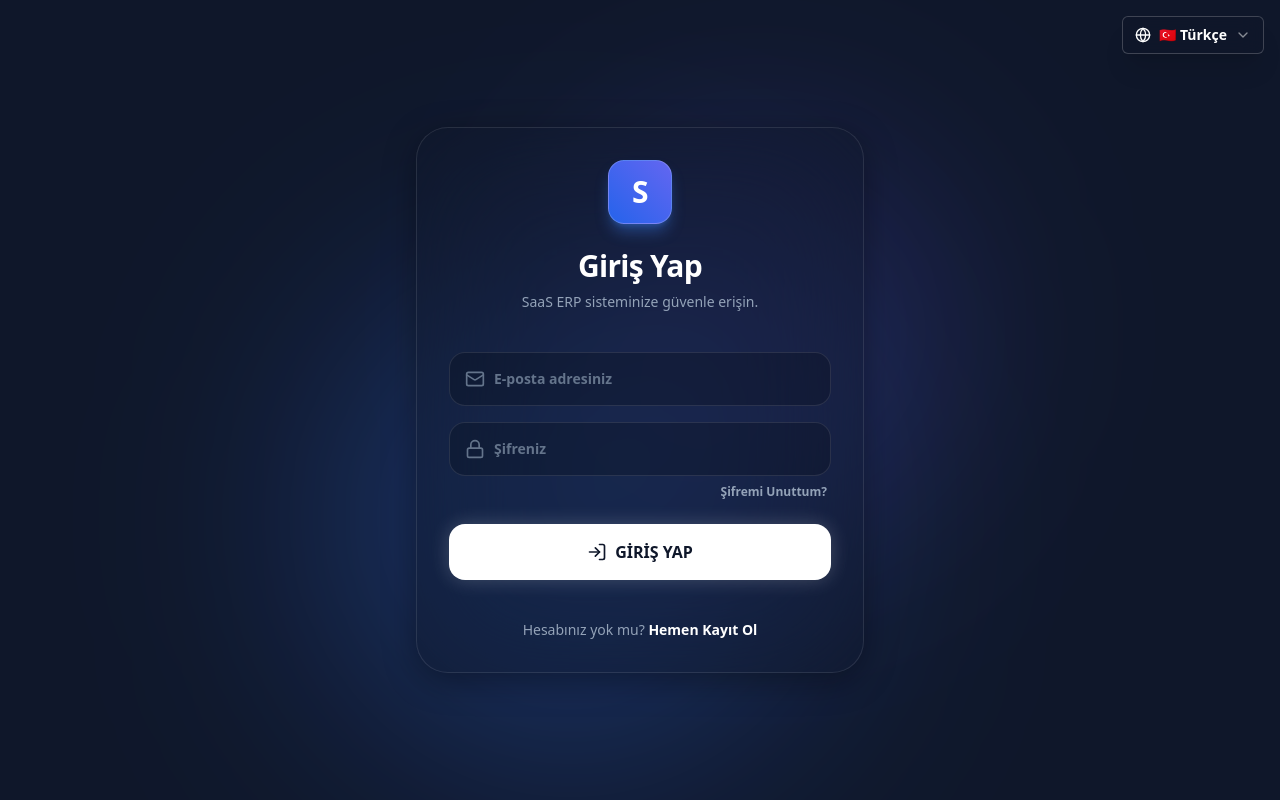
Test: Login Page — Happy Path › LG-HP-08: "Şifremi Unuttum" tıklanınca forgot password formu gösterilir
Click the button "Şifremi Unuttum?".
click(774, 492)  # box 721,484 -> 827,500
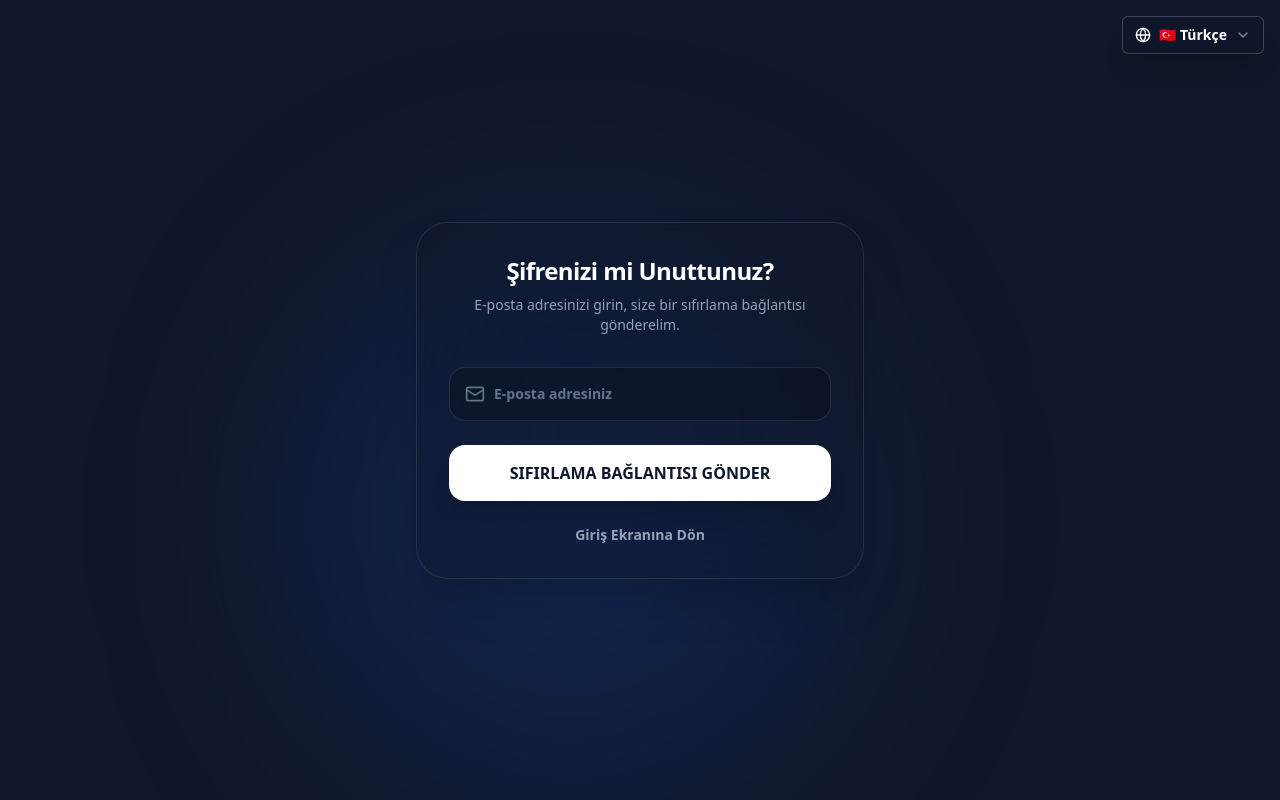
Expected: the heading "Şifrenizi mi Unuttunuz?" is shown, 506,254 -> 774,286
